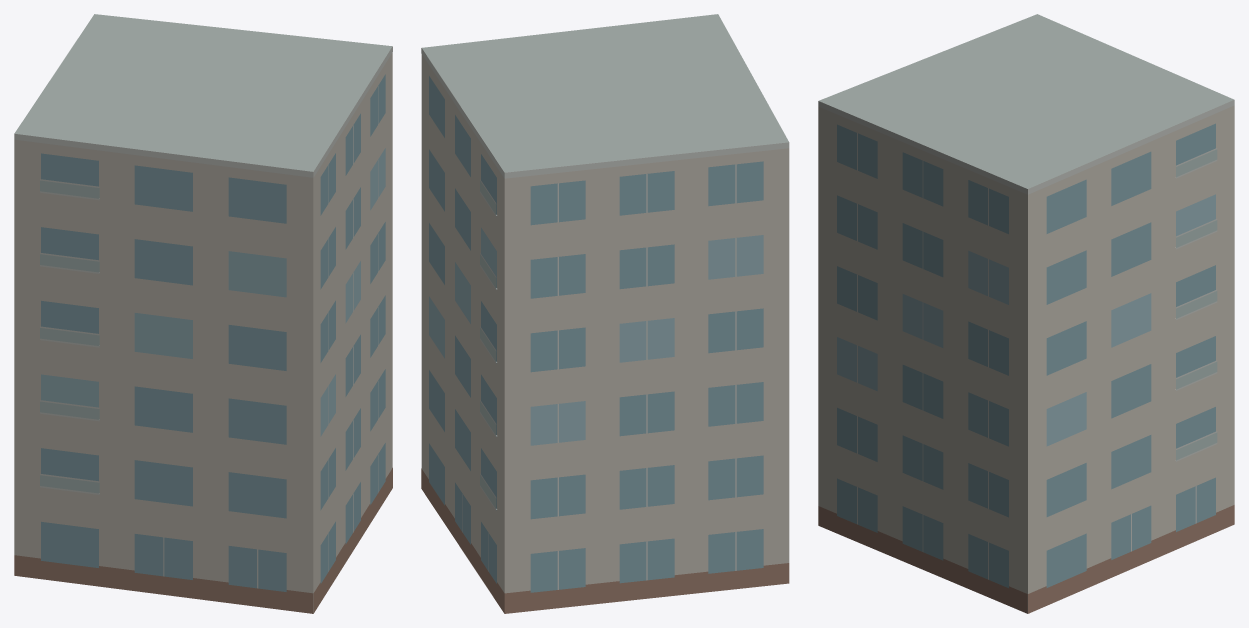
Rendered from survey-upis-32849173.glb.
3 views of the same model, side by side, from view 1: azimuth 30°, elevation 25°; view 2: azimuth 150°, elevation 25°; view 3: azimuth 270°, elevation 25° (orthographic). The views are drawn at different scales.
Visible parts, largest first — view 1: survey-upis-32849173.tmp; view 2: survey-upis-32849173.tmp; view 3: survey-upis-32849173.tmp.
Boxes of the visible parts, <box> form: survey-upis-32849173.tmp: <box>14,14,392,613</box>; survey-upis-32849173.tmp: <box>421,14,789,613</box>; survey-upis-32849173.tmp: <box>818,14,1234,613</box>.
Bounding box in the file's own units: 16.19 × 18.3 × 16.26.
